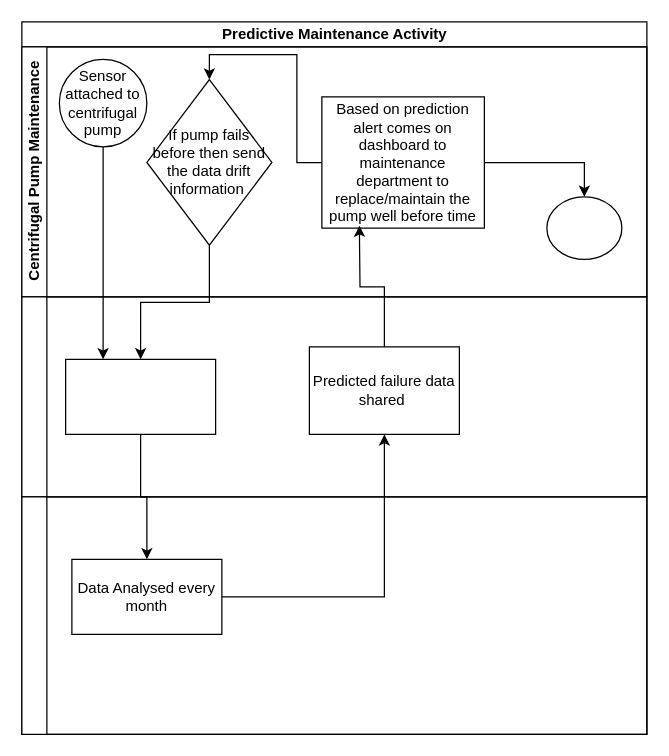
Some shapes in this 669 by 756 pixel diagram are drawn without their labels. The box of each missing label's shape, as (x1, y1, x2, y2) in pixels:
Action taken: (546, 196, 622, 259)
Daily Batch data captured along with drift: (64, 358, 216, 434)
Data Capture IT Team: (21, 296, 647, 497)
Outsourced Analytics Team: (21, 496, 647, 734)
